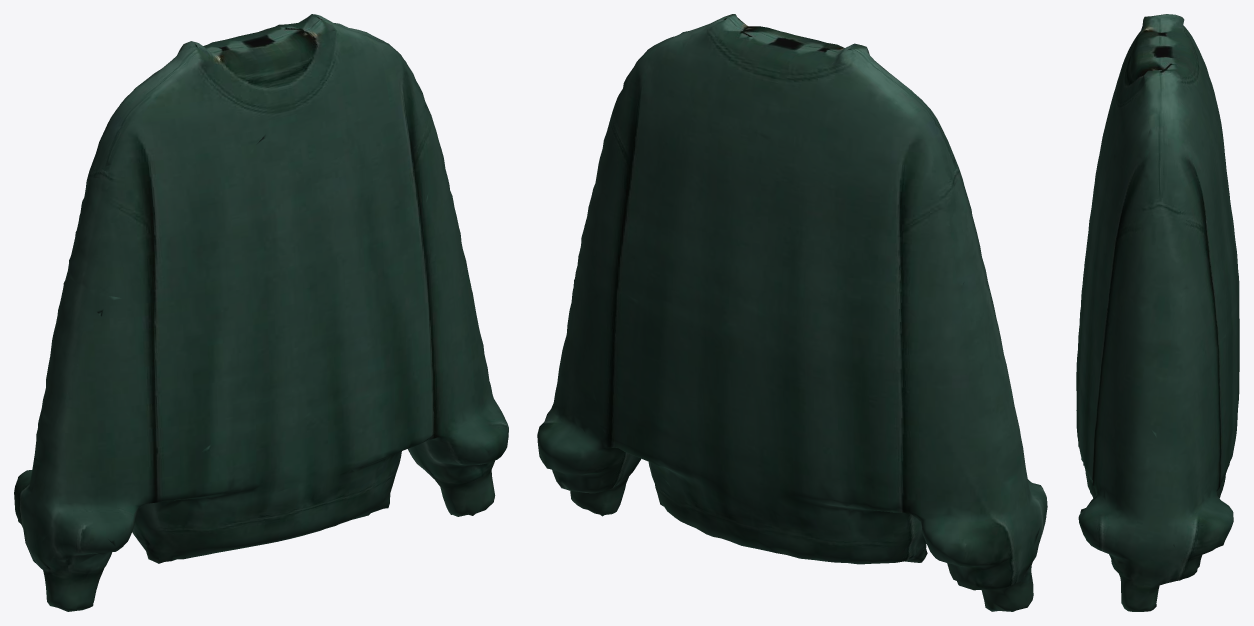
Rendered from forest-product.glb.
The picture shows the model from 3 angles, left to right: view 1: azimuth 30°, elevation 25°; view 2: azimuth 150°, elevation 25°; view 3: azimuth 270°, elevation 25°; orthographic projection. The views are drawn at different scales.
Parts seen in each view (by area): view 1: geometry_0; view 2: geometry_0; view 3: geometry_0.
Part boxes in pixels (bbox=[...]): geometry_0: bbox=[14, 14, 508, 611]; geometry_0: bbox=[537, 14, 1047, 611]; geometry_0: bbox=[1076, 14, 1239, 611].
Size of the model in its own units: 0.6526 by 0.7107 by 0.2186.
Materials: 1 (1 with a texture image).
